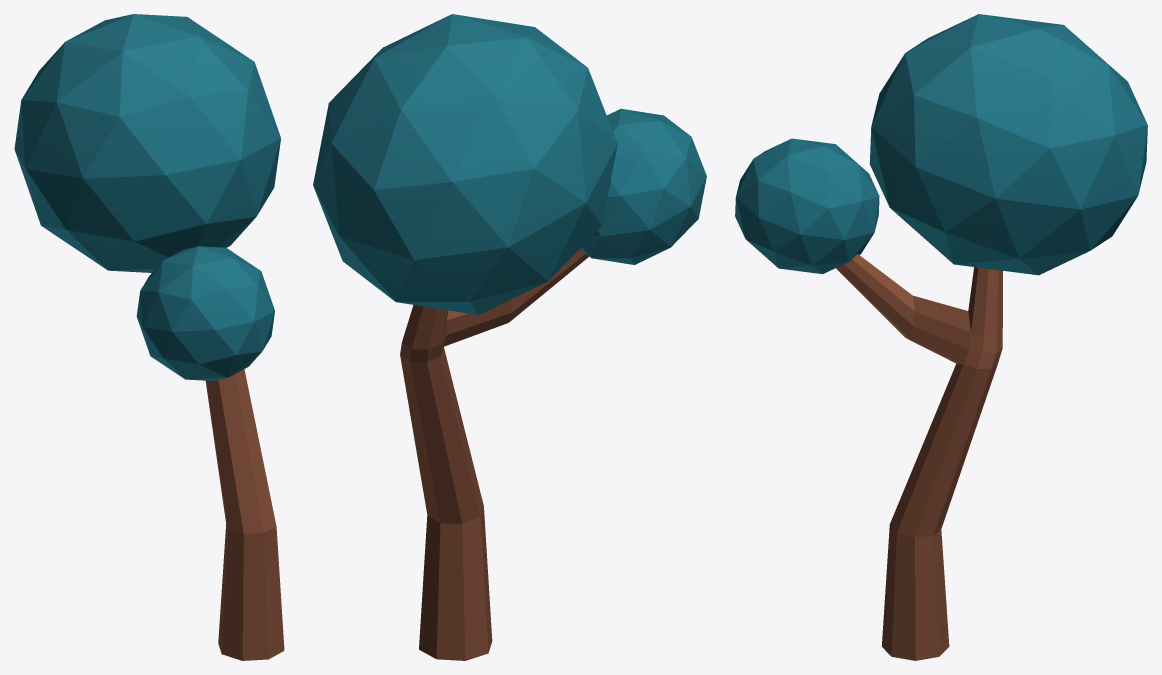
The model's file is Tree_02_gradient_blue_vc.fbx.
3 views of the same model, side by side, from view 1: azimuth 30°, elevation 25°; view 2: azimuth 150°, elevation 25°; view 3: azimuth 270°, elevation 25° (orthographic). The views are drawn at different scales.
Parts seen in each view (by area): view 1: Tree_02_gradient_blue_vc; view 2: Tree_02_gradient_blue_vc; view 3: Tree_02_gradient_blue_vc.
Part boxes in pixels (x1,y1,x2,y2): Tree_02_gradient_blue_vc: (14, 14, 284, 660); Tree_02_gradient_blue_vc: (313, 14, 706, 660); Tree_02_gradient_blue_vc: (735, 14, 1147, 660).
Size of the model in its own units: 71.42 by 177 by 112.
